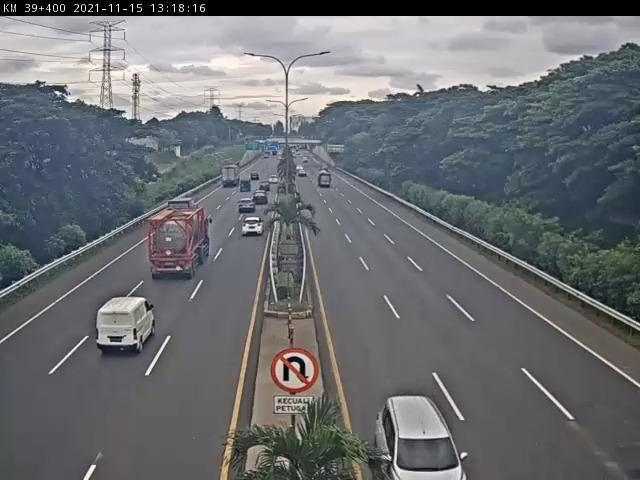bus: (97, 298, 158, 353)
car: (242, 216, 265, 236), (238, 198, 257, 214)
truck: (152, 207, 211, 279)
